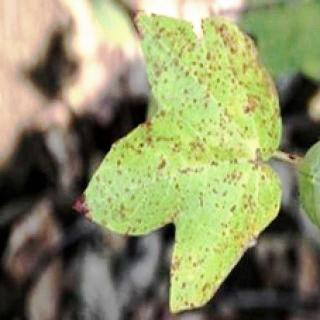leaf spot: (75, 9, 283, 312)
